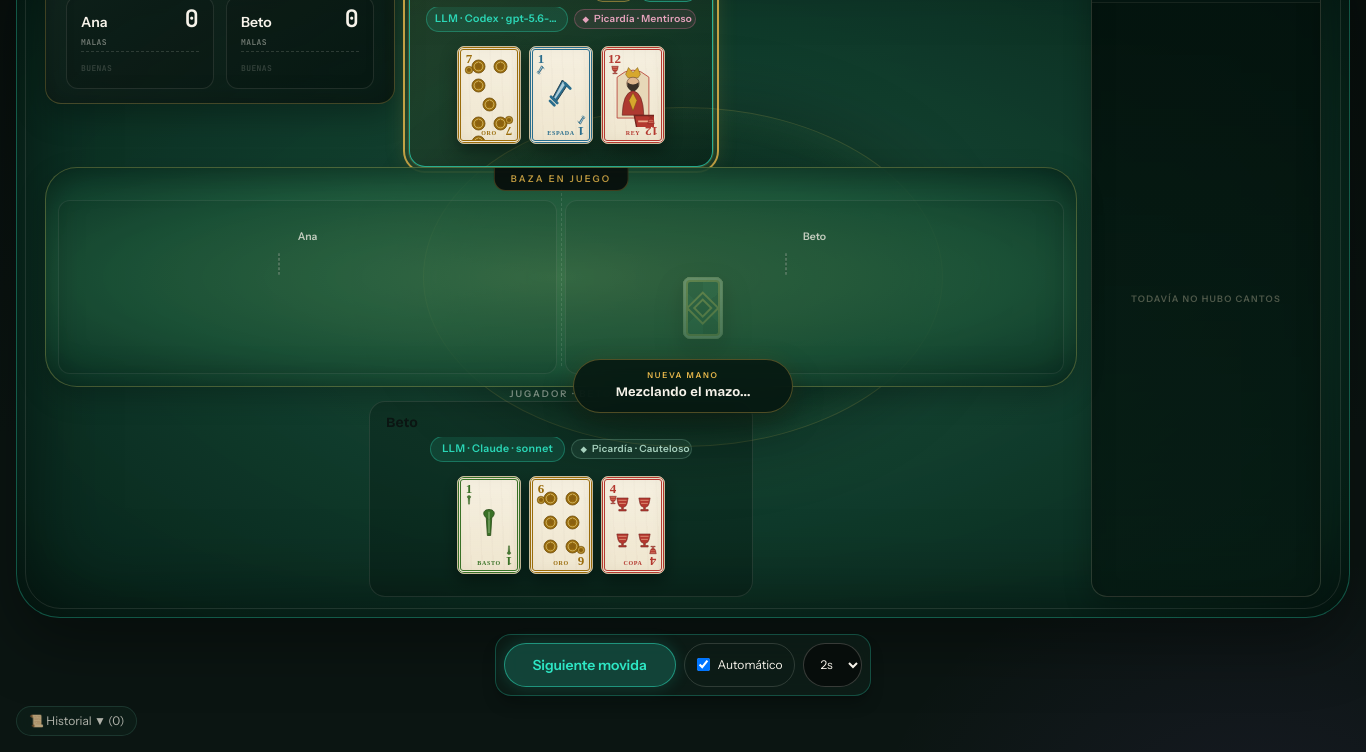
Scenario: el dock se expande sólo al pasar de autoplay a control manual
This screenshot has width=1366, height=752.
(page scrolled)
Step 1. Click the checkbox with test id "auto-play" → click(703, 665), box [697,658,710,671]
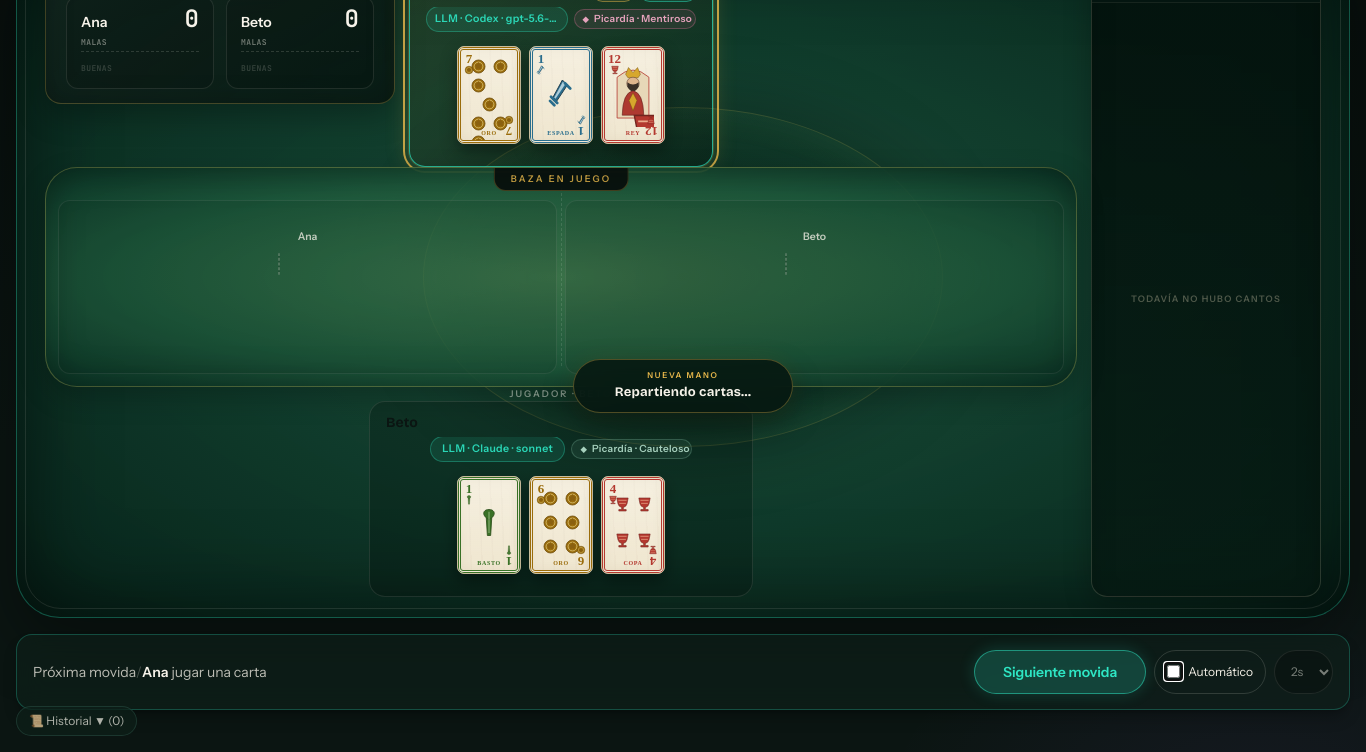
Now the element with test id "step-controls" shows "Próxima movida", box [33,663,136,681]
Now the element with test id "step-controls" shows "Ana", box [142,663,168,681]
